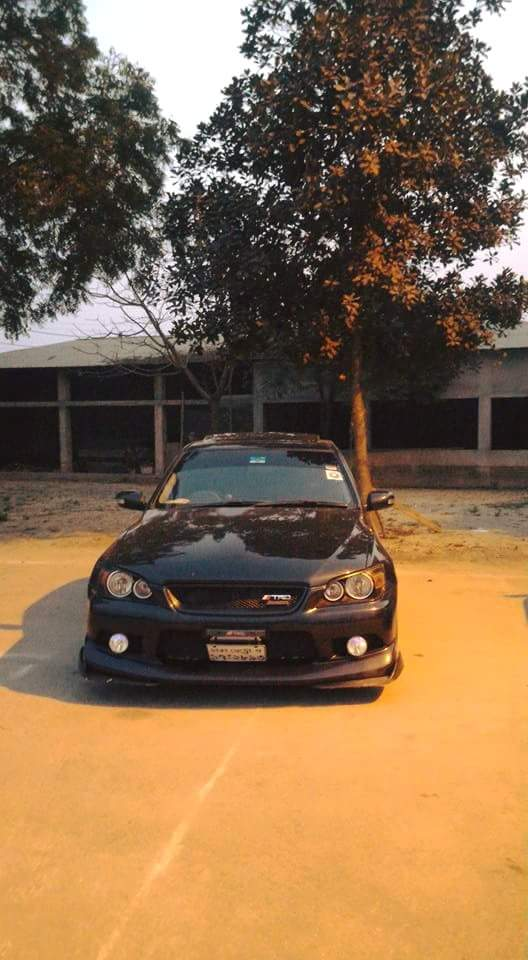registration_plate: (203, 641, 270, 665)
